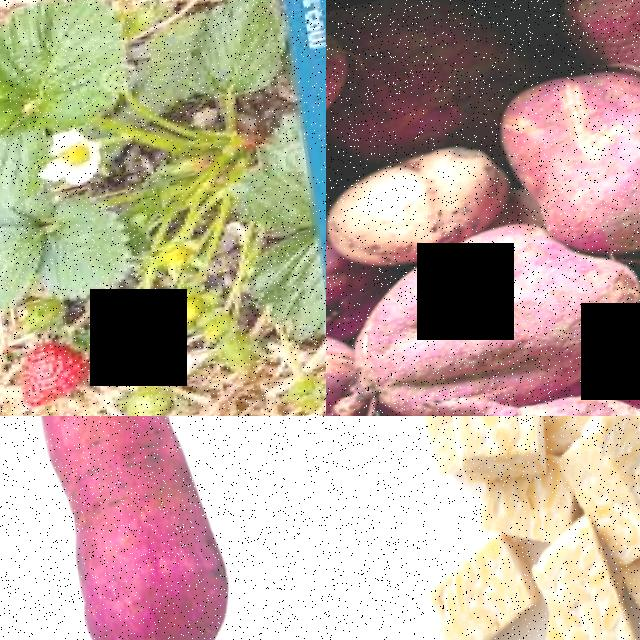strawberry: (11, 342, 88, 416)
sweet potato: (326, 201, 640, 416), (12, 416, 242, 640), (497, 53, 640, 281)
tempeh: (526, 522, 637, 640), (442, 416, 554, 499)
tofu: (556, 416, 640, 560), (420, 546, 535, 640)
